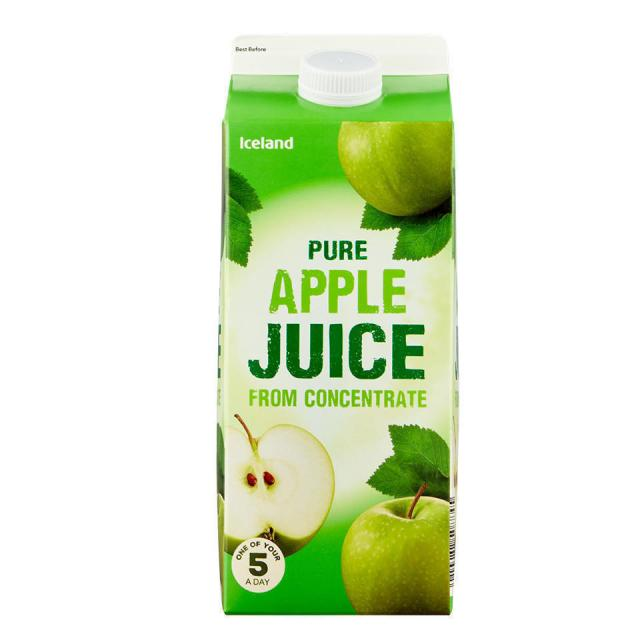non_white_jug: (190, 24, 471, 616)
